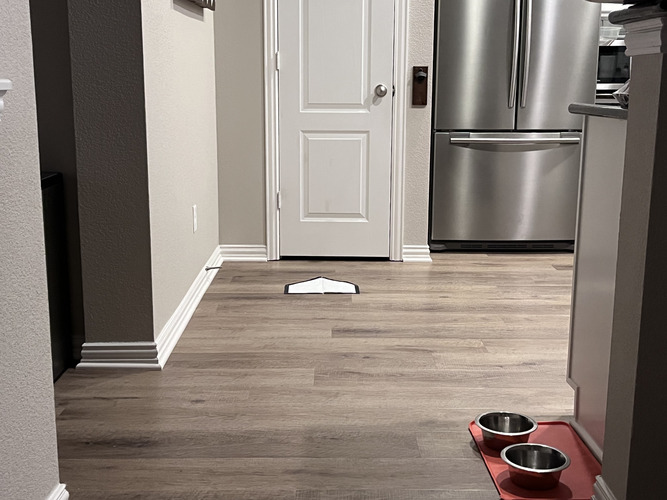homeplate: (283, 277, 359, 295)
